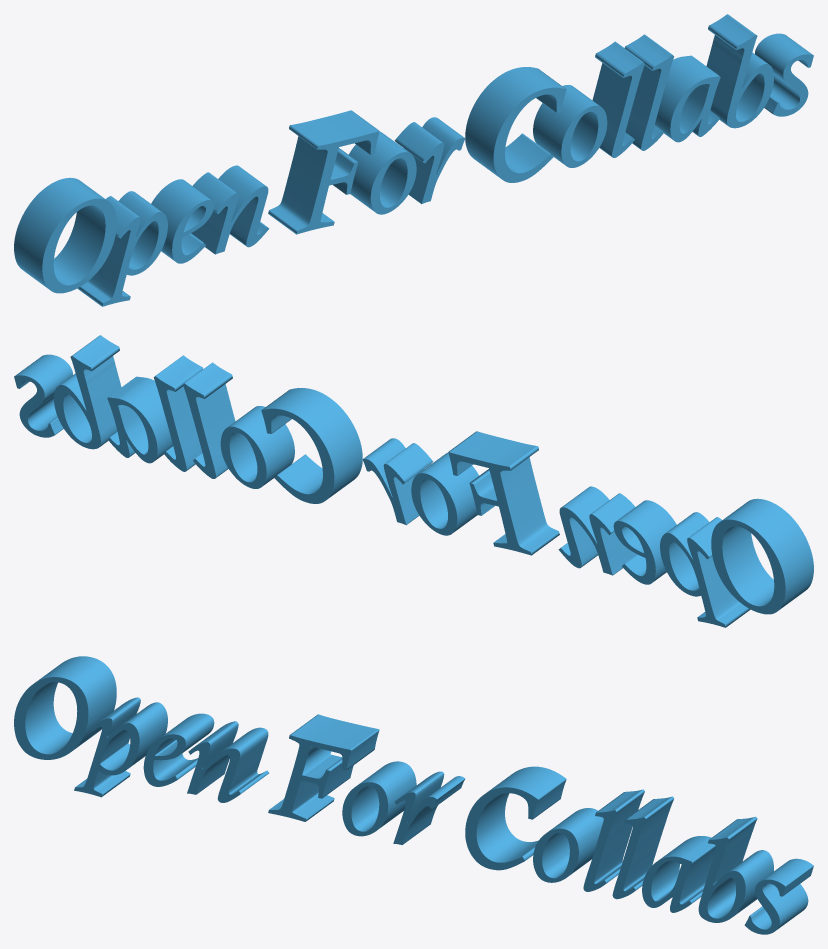
The model's file is collabs1_weird.glb.
3 views of the same model, one above another, from view 1: azimuth 30°, elevation 25°; view 2: azimuth 150°, elevation 25°; view 3: azimuth 330°, elevation 25° (orthographic).
Parts seen in each view (by area): view 1: Text; view 2: Text; view 3: Text.
Part boxes in pixels (x1=…): Text: x1=14, y1=14, x2=813, y2=306; Text: x1=14, y1=335, x2=813, y2=627; Text: x1=14, y1=656, x2=813, y2=934.
Size of the model in its own units: 198 by 27.62 by 12.6.
